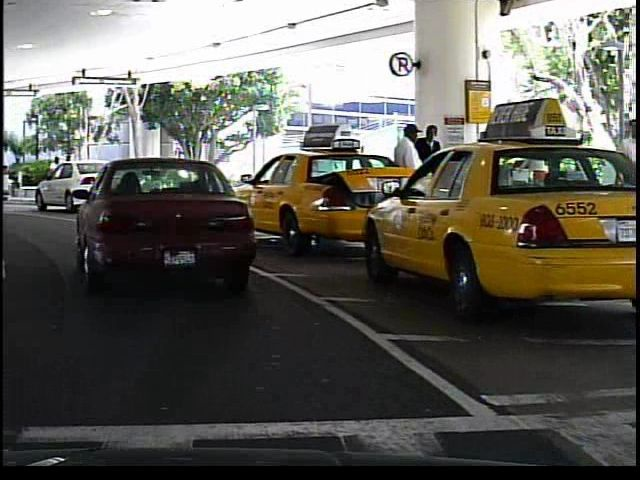person: (388, 122, 427, 239), (414, 121, 447, 231), (610, 115, 640, 183), (43, 152, 67, 196)
